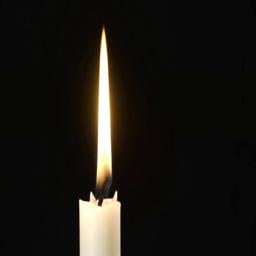fire: (95, 31, 115, 185)
